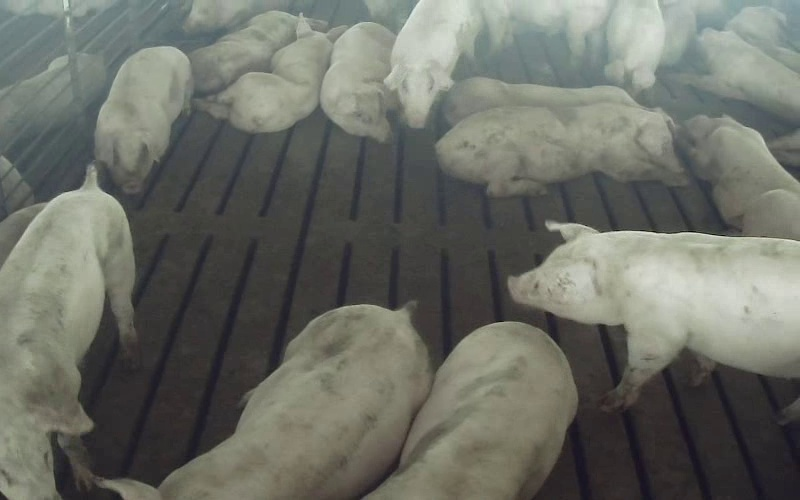pig: (99, 305, 432, 499), (367, 322, 576, 499), (436, 103, 687, 196), (195, 13, 347, 132), (95, 46, 192, 194), (685, 115, 799, 239), (442, 77, 638, 125), (320, 22, 395, 141)
